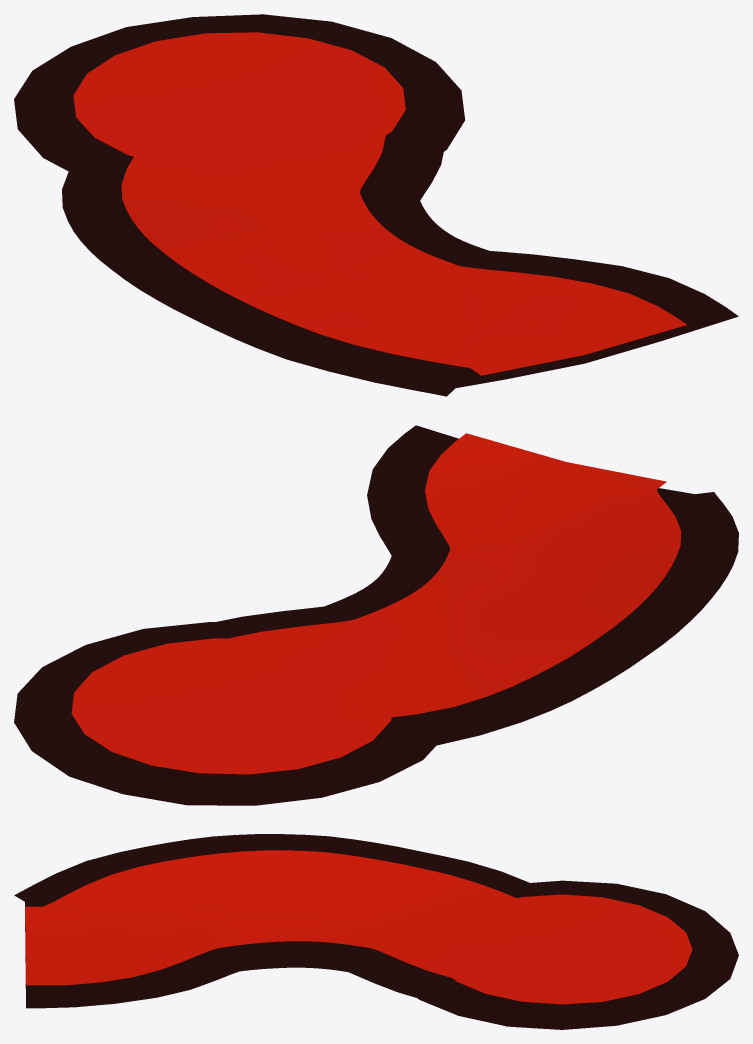
File: MODULE_LAVA_RIVER_SPRING.fbx
3 views of the same model, one above another, from view 1: azimuth 30°, elevation 25°; view 2: azimuth 150°, elevation 25°; view 3: azimuth 270°, elevation 25° (orthographic). The views are drawn at different scales.
Parts seen in each view (by area): view 1: MODULE_LAVA_RIVER_SPRING_DECOR__export; view 2: MODULE_LAVA_RIVER_SPRING_DECOR__export; view 3: MODULE_LAVA_RIVER_SPRING_DECOR__export.
Boxes of the visible parts, <box> form: MODULE_LAVA_RIVER_SPRING_DECOR__export: <box>14,14,738,396</box>; MODULE_LAVA_RIVER_SPRING_DECOR__export: <box>14,425,738,805</box>; MODULE_LAVA_RIVER_SPRING_DECOR__export: <box>14,834,738,1029</box>.
Size of what is drawn, in the model's own units: 22.99 by 1.19 by 38.98.
